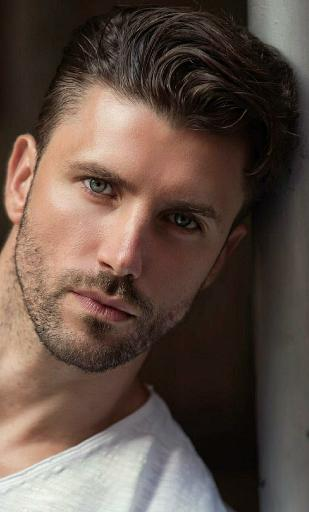left_eye: (158, 210, 209, 237)
left_lip_corner: (126, 306, 142, 330)
right_eye: (70, 173, 121, 204)
right_lip_corner: (65, 281, 84, 307)
